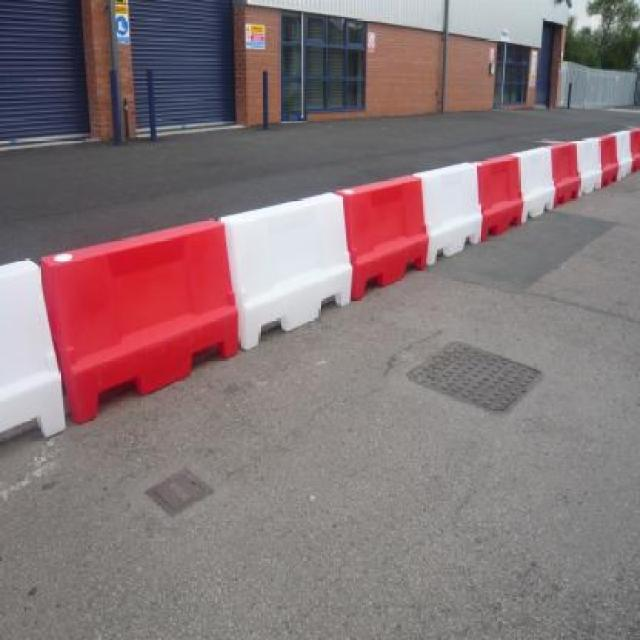fallen_object: (7, 210, 241, 416), (195, 193, 361, 338), (380, 132, 506, 256), (0, 260, 72, 445), (335, 176, 446, 291), (450, 136, 578, 226), (529, 109, 640, 200)
